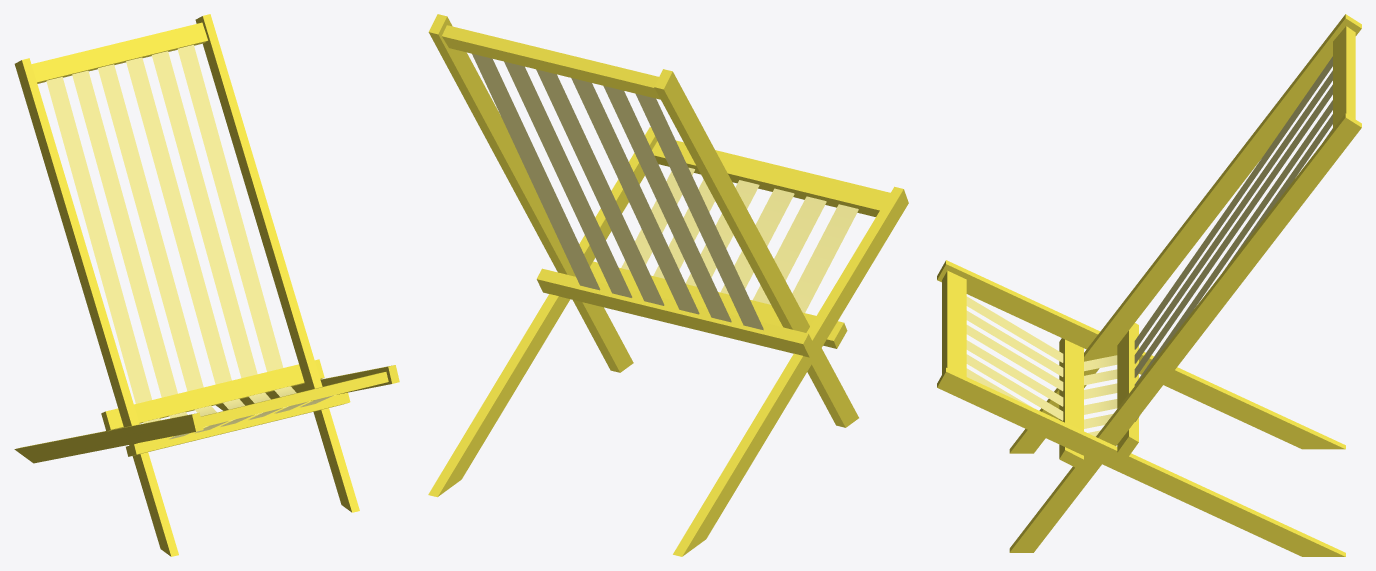
Rendered from lounge_chair_012.glb.
3 renders of one model, left to right at view 1: azimuth 30°, elevation 25°; view 2: azimuth 150°, elevation 25°; view 3: azimuth 270°, elevation 25°, orthographic. The views are drawn at different scales.
Visible parts, largest first — view 1: lounge_chair_012; view 2: lounge_chair_012; view 3: lounge_chair_012.
Part boxes in pixels (box(x1,y1,x2,y2)): lounge_chair_012: box(14, 14, 399, 556); lounge_chair_012: box(428, 14, 908, 556); lounge_chair_012: box(937, 14, 1361, 556).
Size of the model in its own units: 0.5496 by 0.9517 by 0.8415.
Materials: 1 (1 with a texture image).
